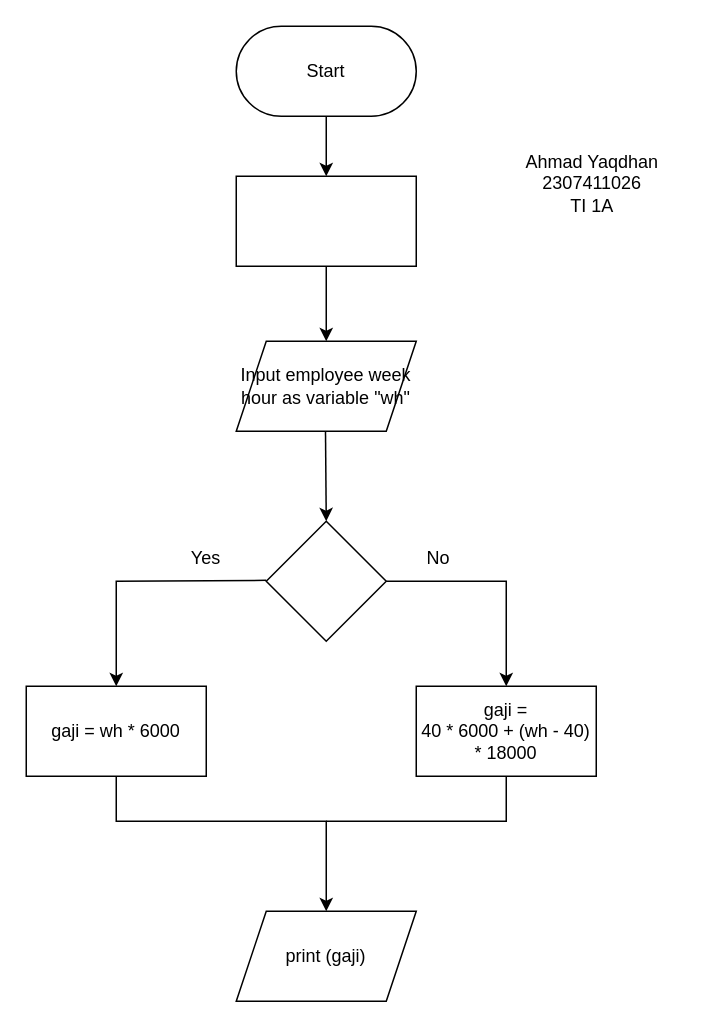
The diagram is 728 pixels wide and 1028 high, and some of its shapes have lost their labels. Here are the shapes that lost their labels. From the top down, the centre of each, then its label:
point 325,220: Declare variable "gaji"
point 325,580: If wh > 40
